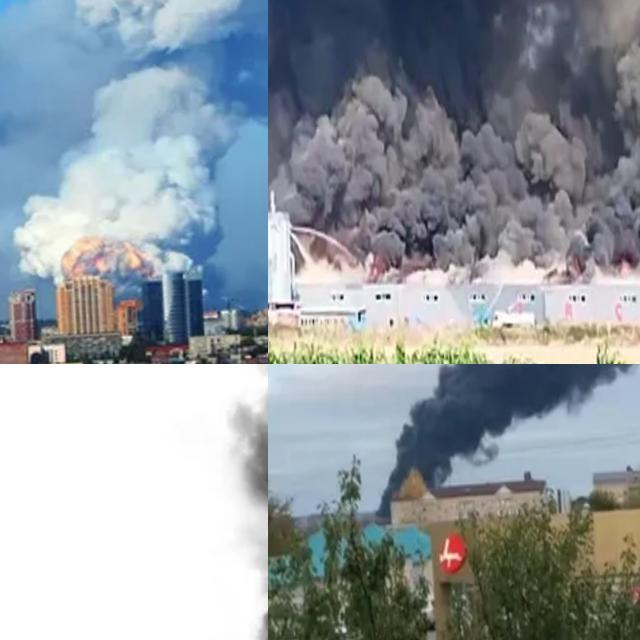smoke: (268, 0, 640, 294), (2, 0, 268, 272), (6, 364, 268, 640), (357, 364, 640, 501)
